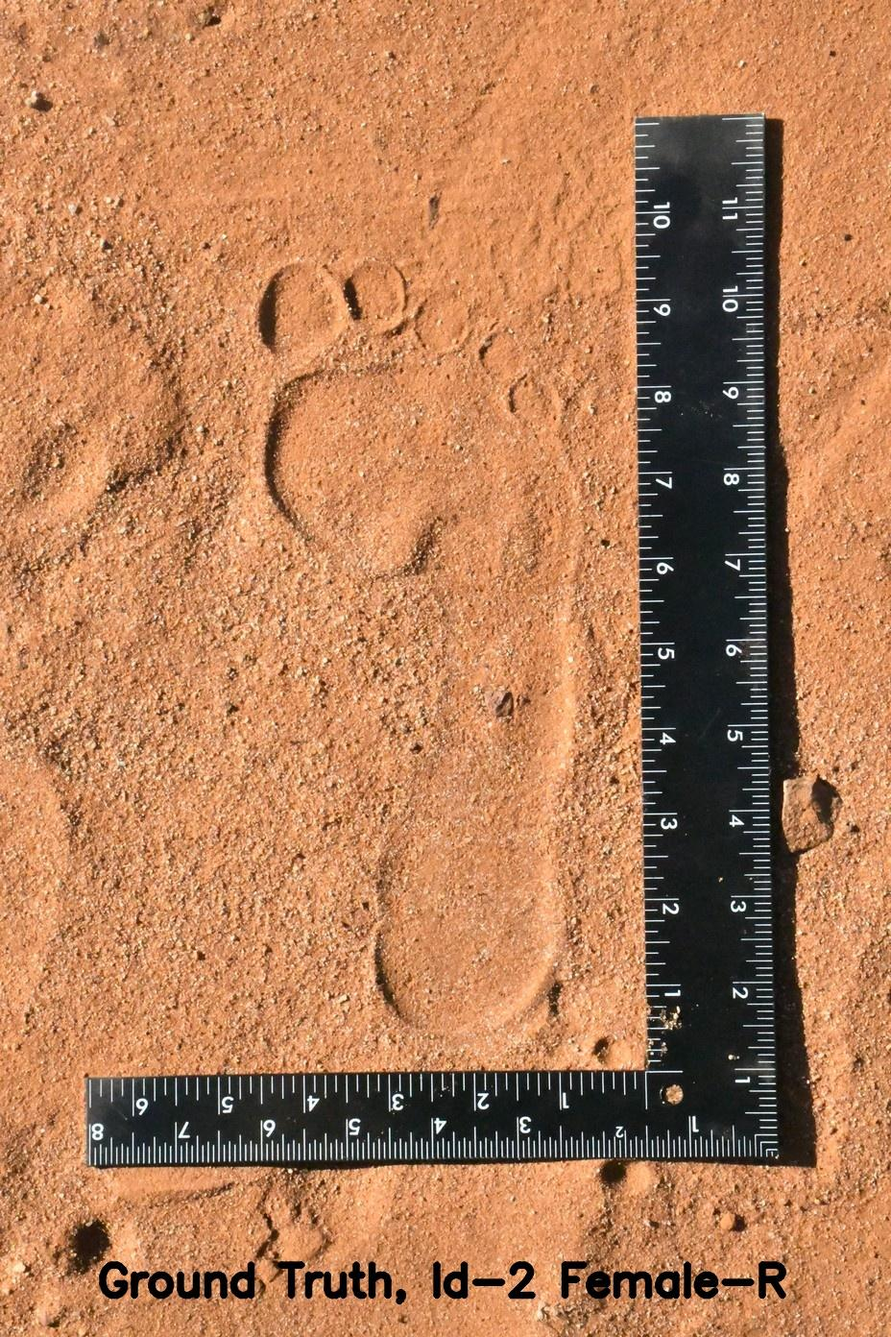human_footprint: (209, 237, 634, 1059)
